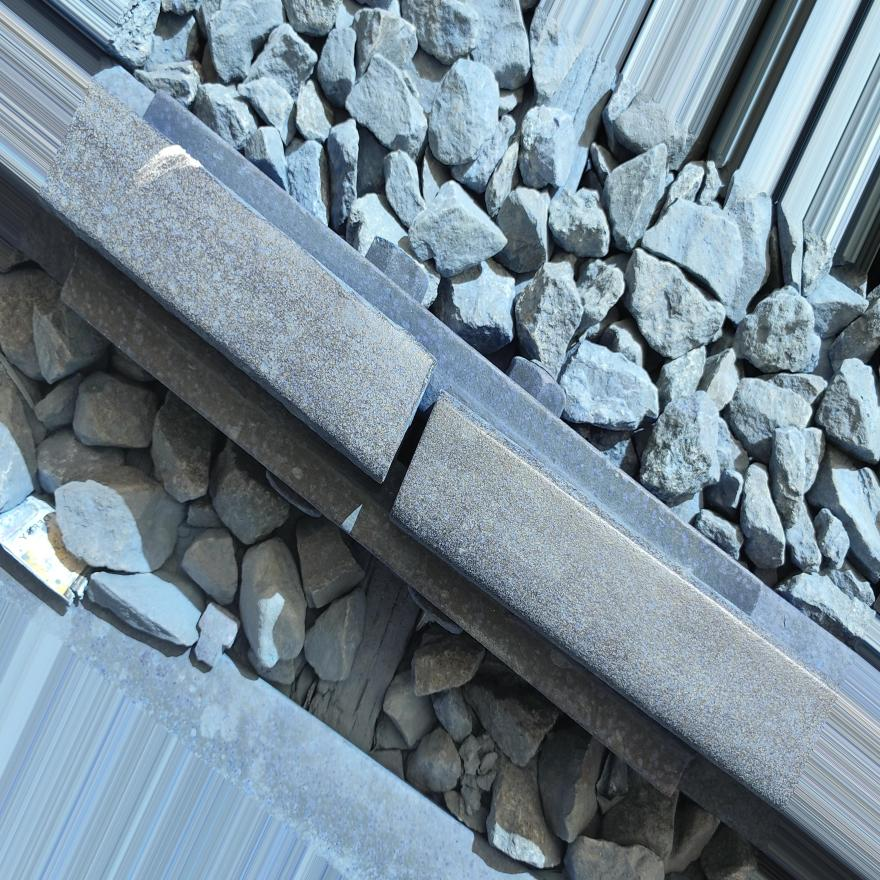railway-gap: (327, 331, 491, 543)
